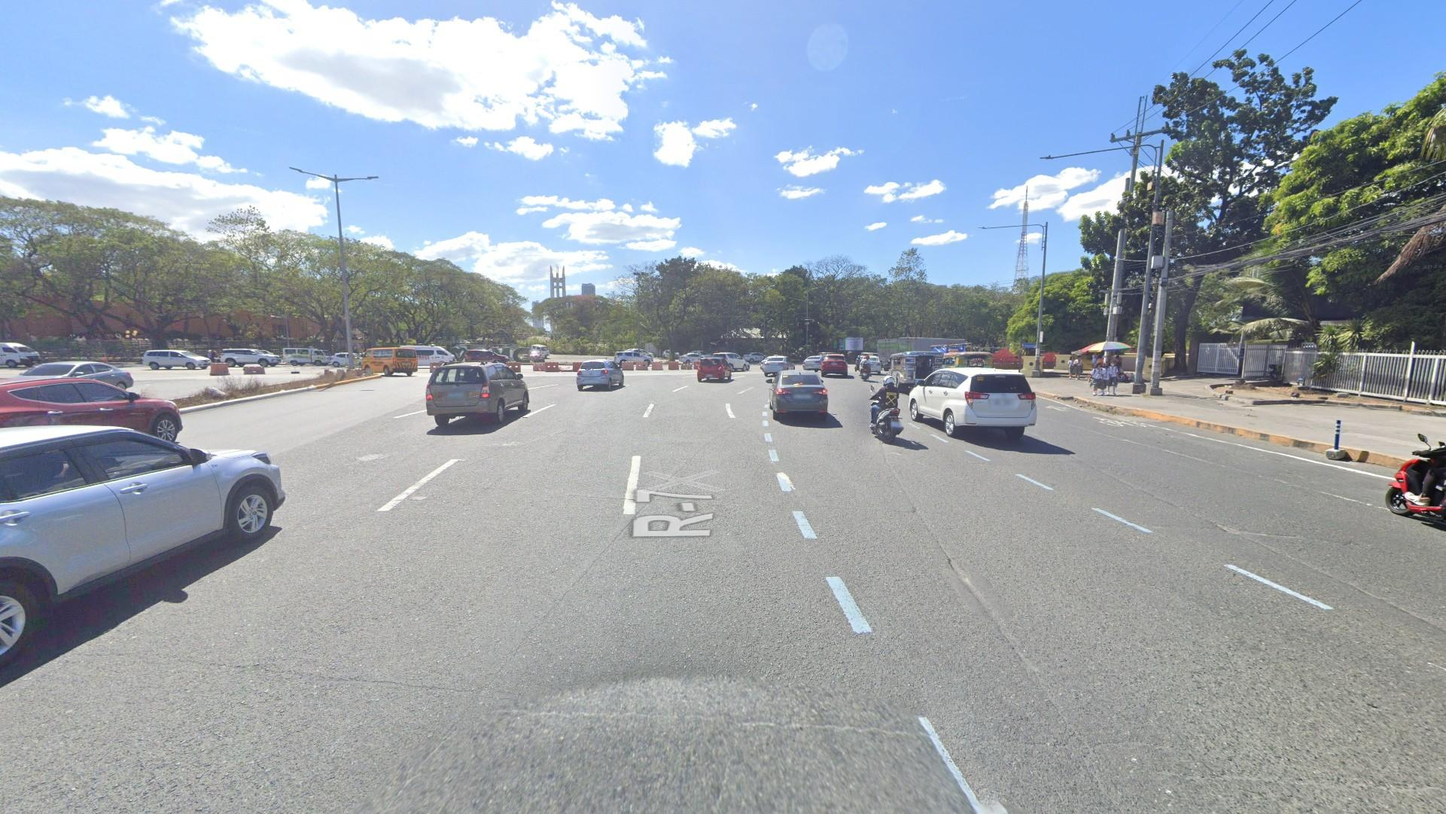pedestrian: (1088, 362, 1103, 396), (1107, 361, 1120, 397), (1099, 362, 1112, 396), (1073, 355, 1084, 381), (1067, 356, 1076, 380), (1114, 354, 1123, 377)
